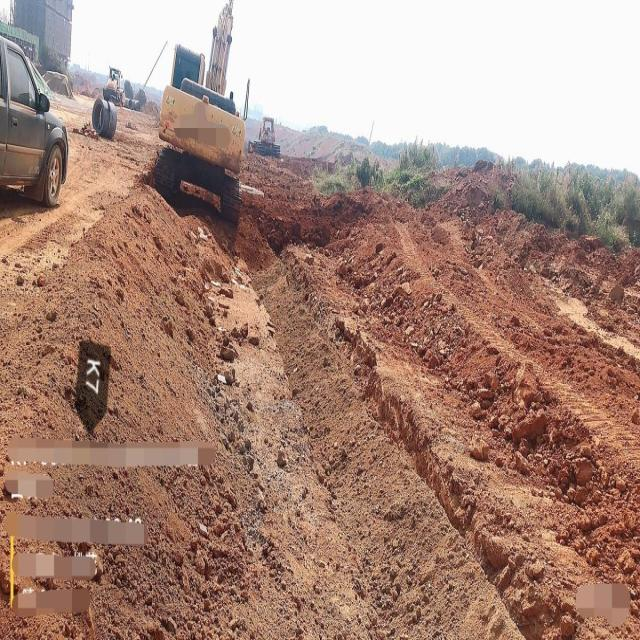excavator: (148, 0, 251, 236)
machinery: (254, 108, 282, 160), (101, 60, 127, 106)
